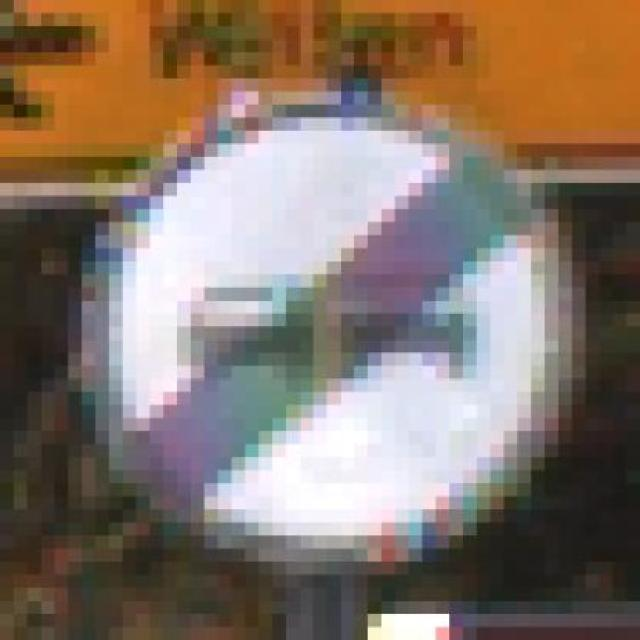No_Over_Taking: (68, 39, 600, 575)
